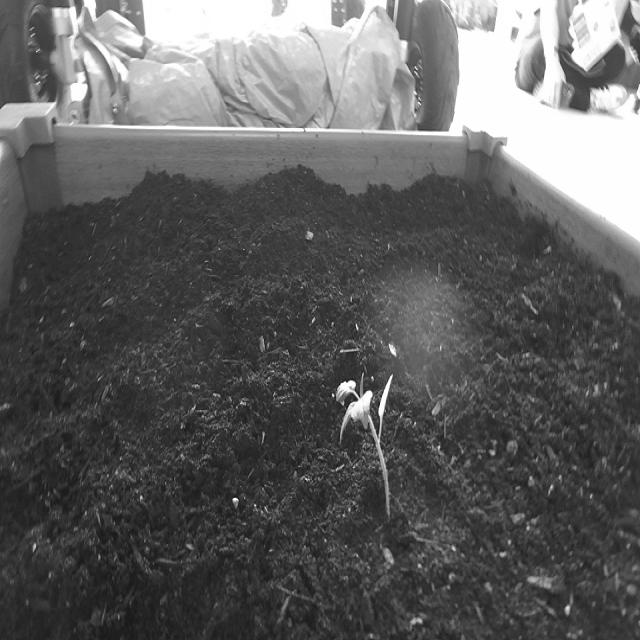Healthy: (333, 367, 401, 529)
